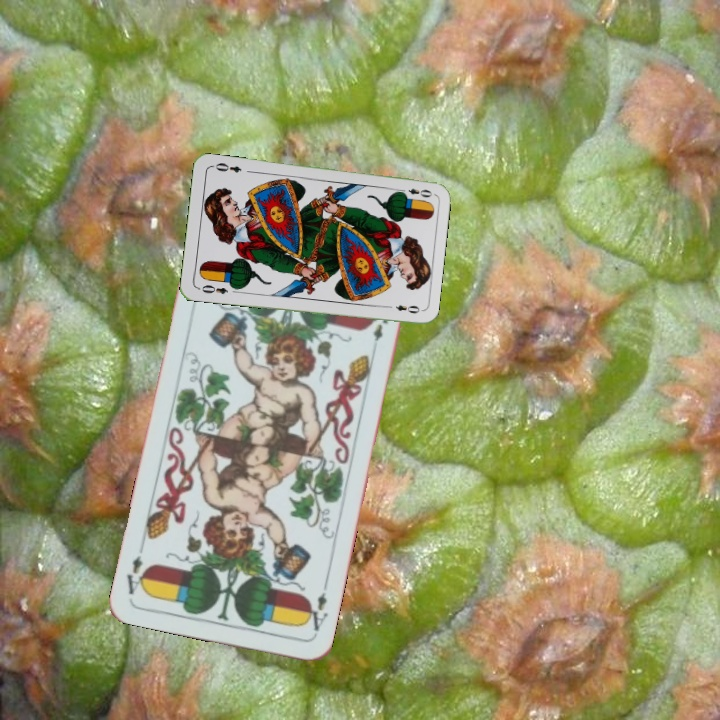EA: (301, 580, 331, 638)
EO: (395, 184, 435, 200), (194, 281, 230, 297)
